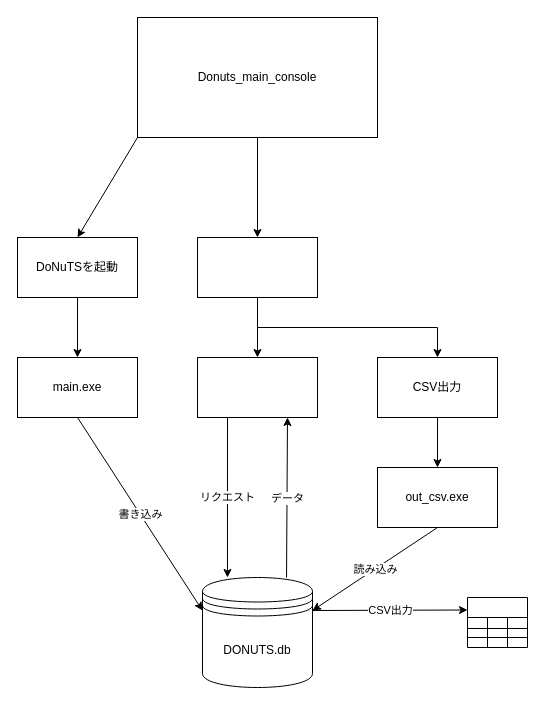
This 545x705 diagram has some shape labels left out. Here are the shapes that lost their labels. From the top down, the centre of each, then its label:
(x=257, y=267): データ参照
(x=257, y=387): 接続，参照
(x=497, y=622): CSV
